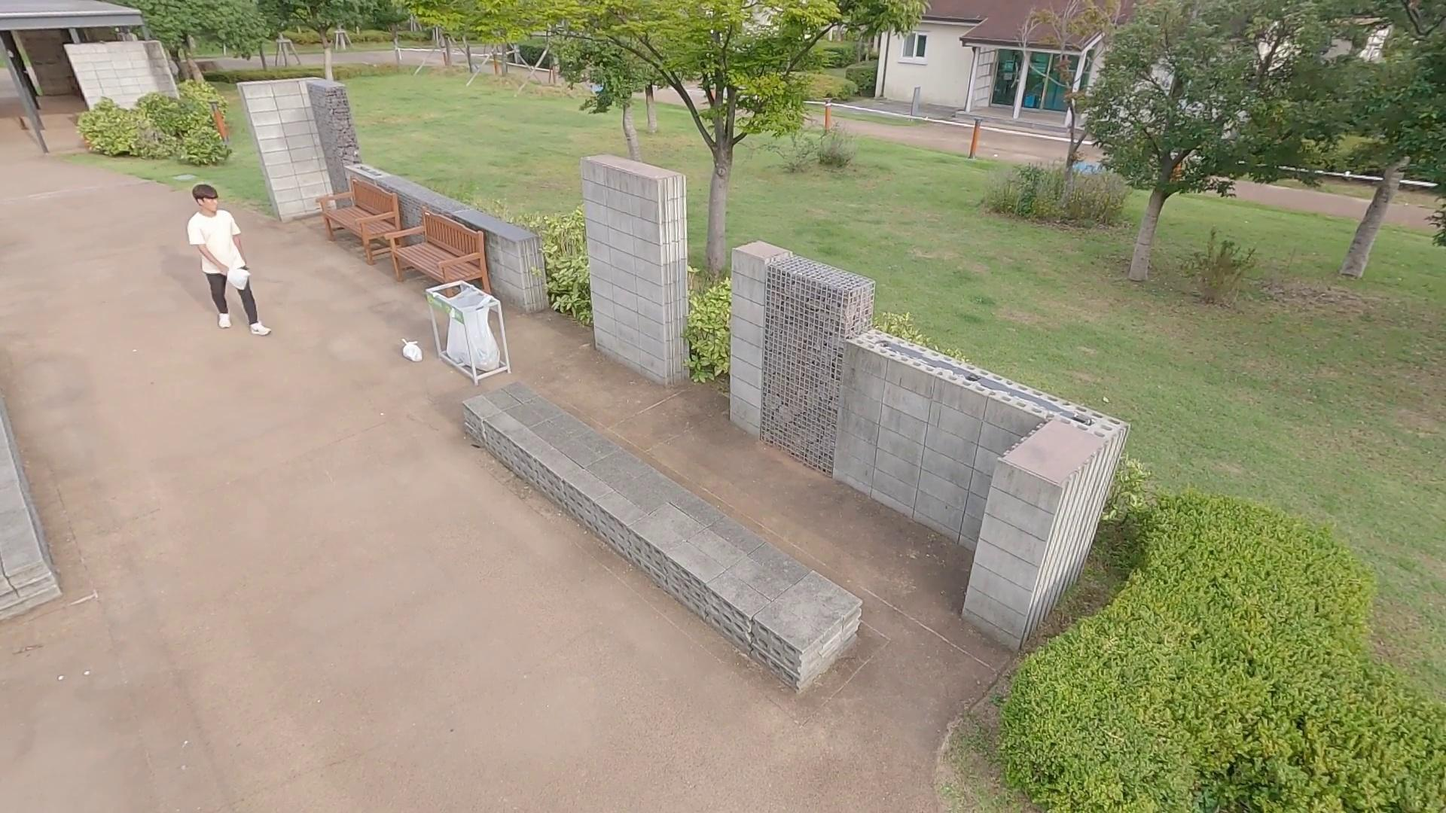person: (181, 181, 275, 340)
trash: (395, 333, 424, 364), (226, 262, 253, 295)
